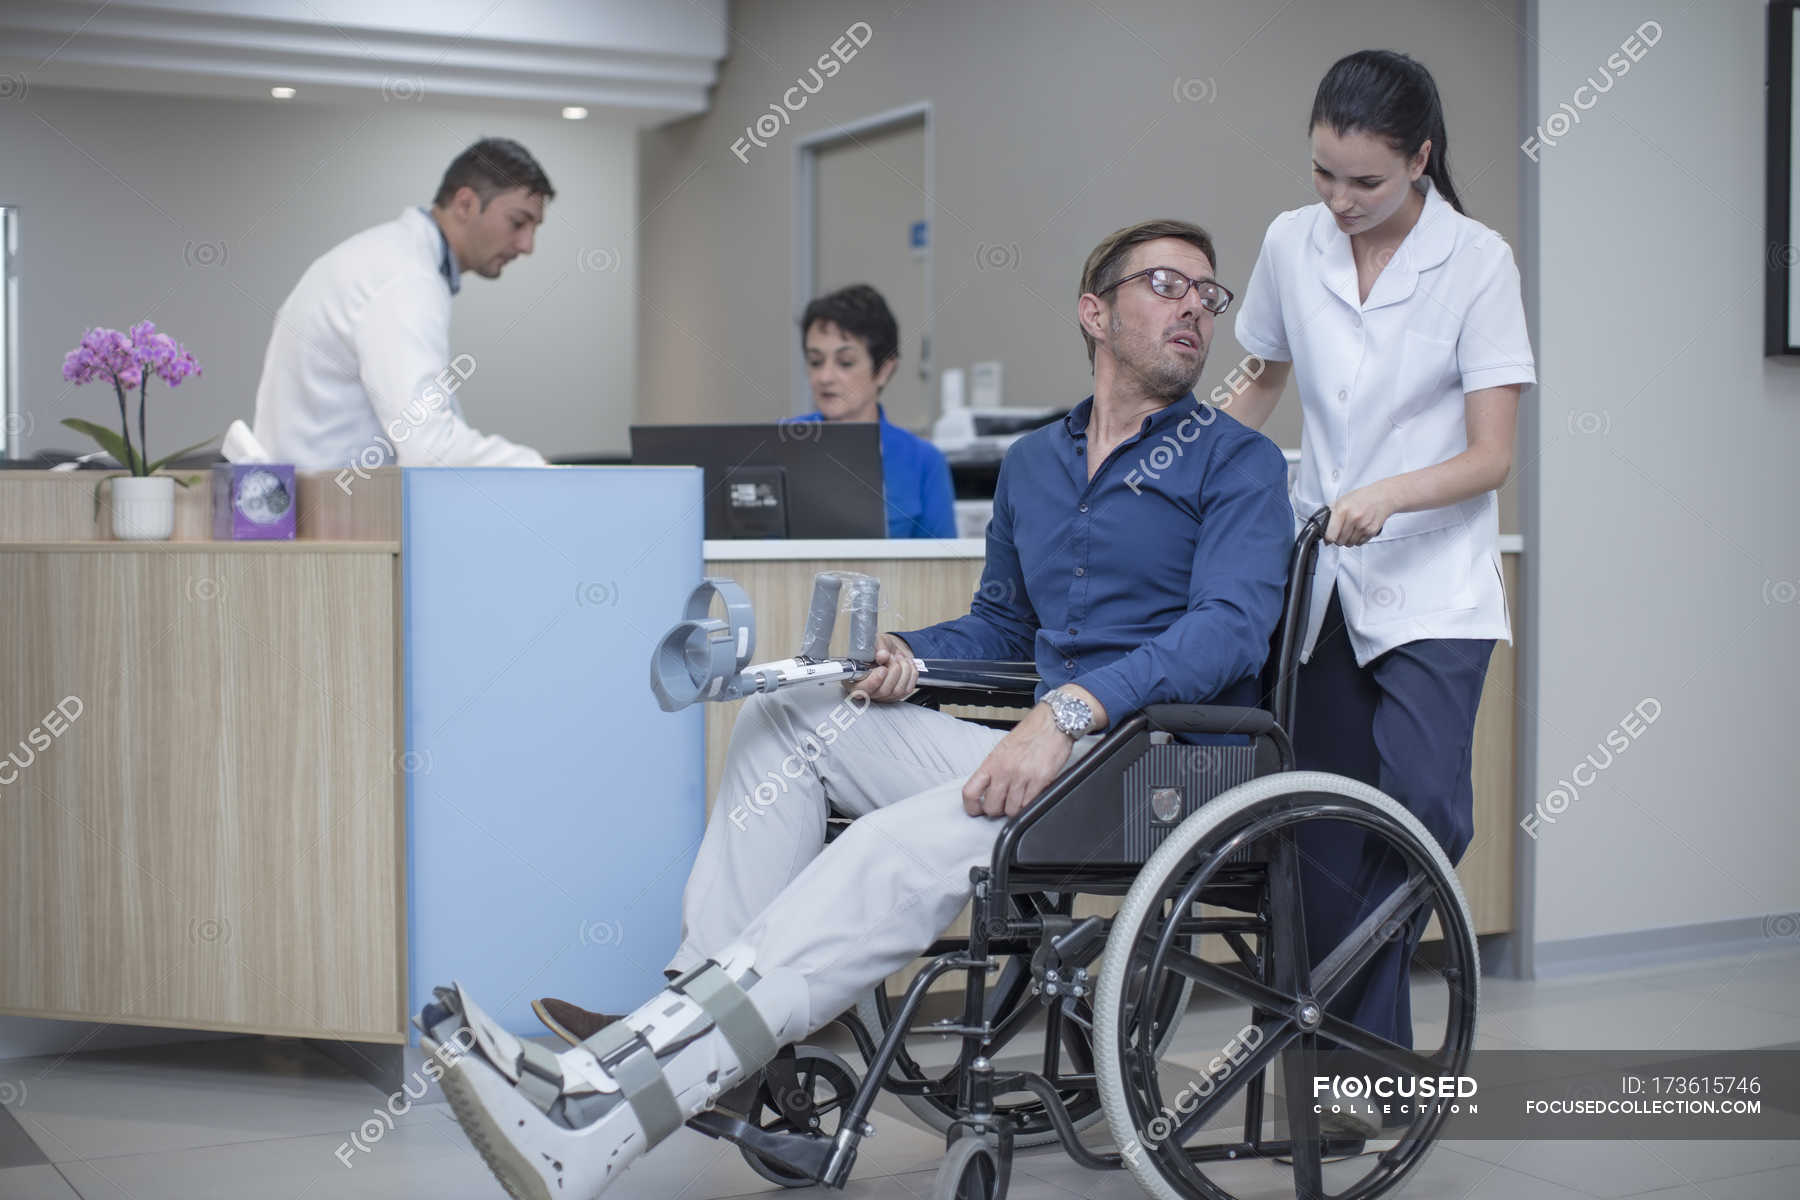wheelchair: (406, 220, 1484, 1200)
